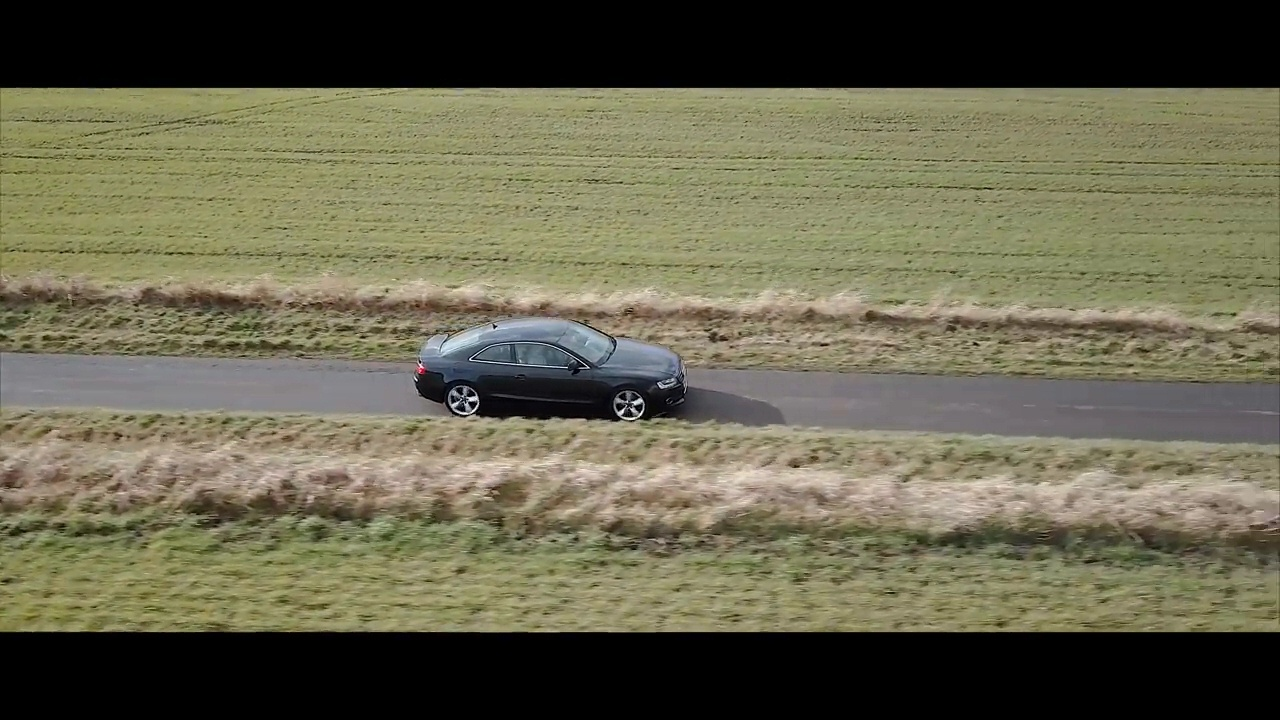araba: (406, 308, 690, 424)
